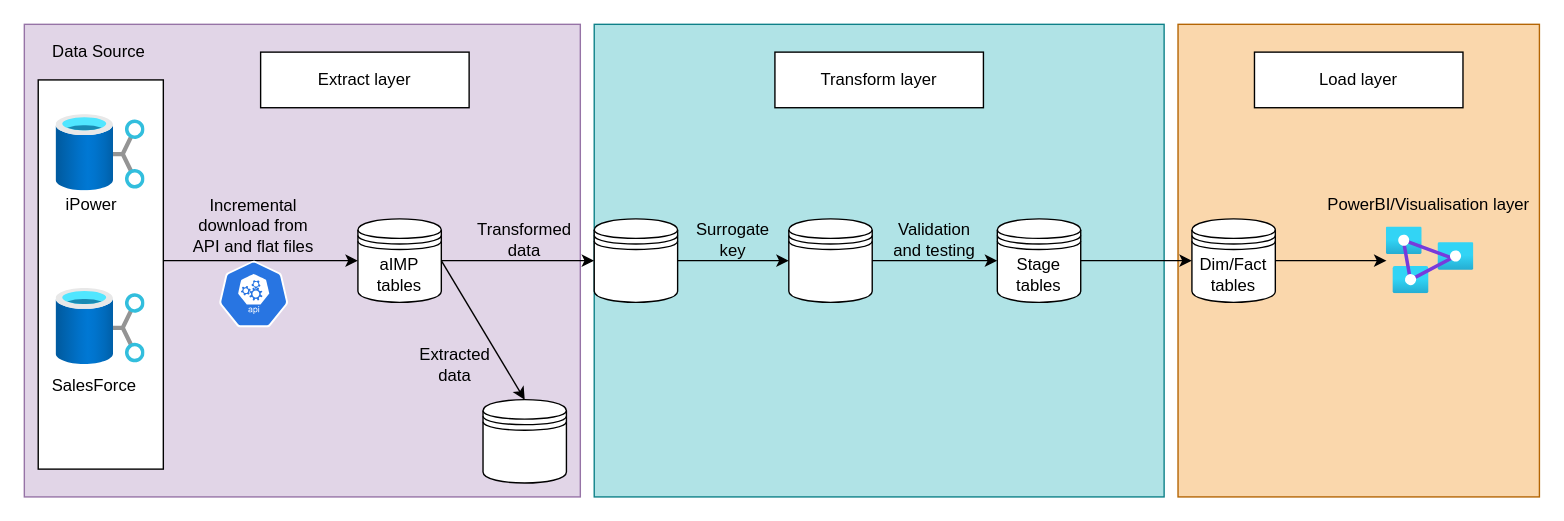
This 1564x521 diagram has some shape labels left out. The shapes that lost their labels are listed below. From the top down, each one's centre as x and y in pixels, then its label:
At point (635, 260): "aExtract tables".
At point (829, 260): "Identity tables".
At point (524, 440): "tblExtract tables".
